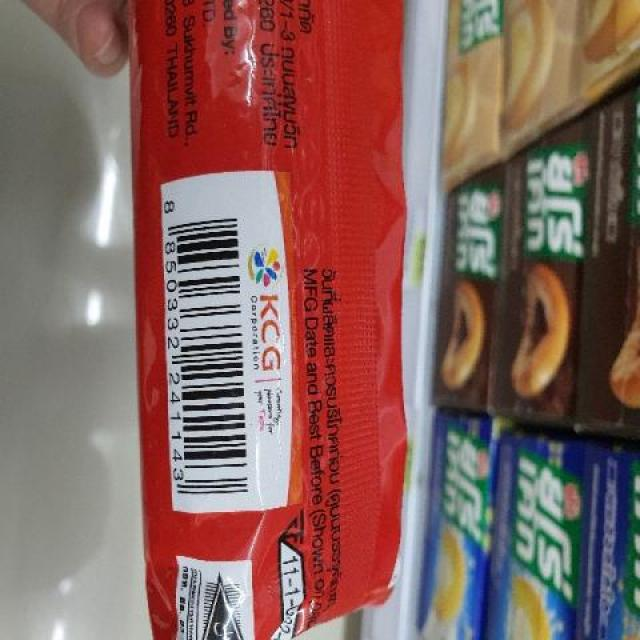Barcode: (160, 171, 253, 512)
